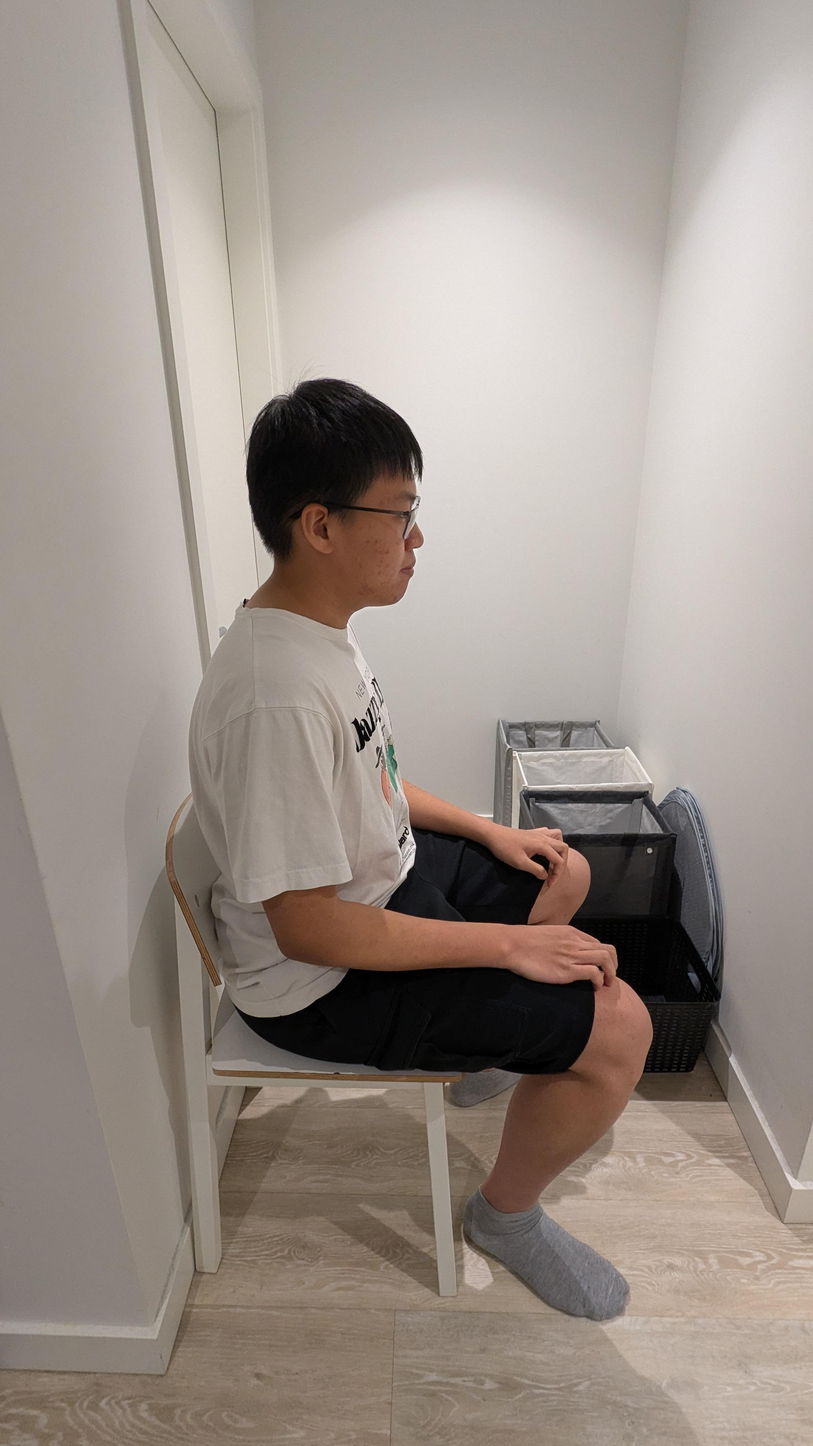GoodPosture: (190, 378, 653, 1223)
